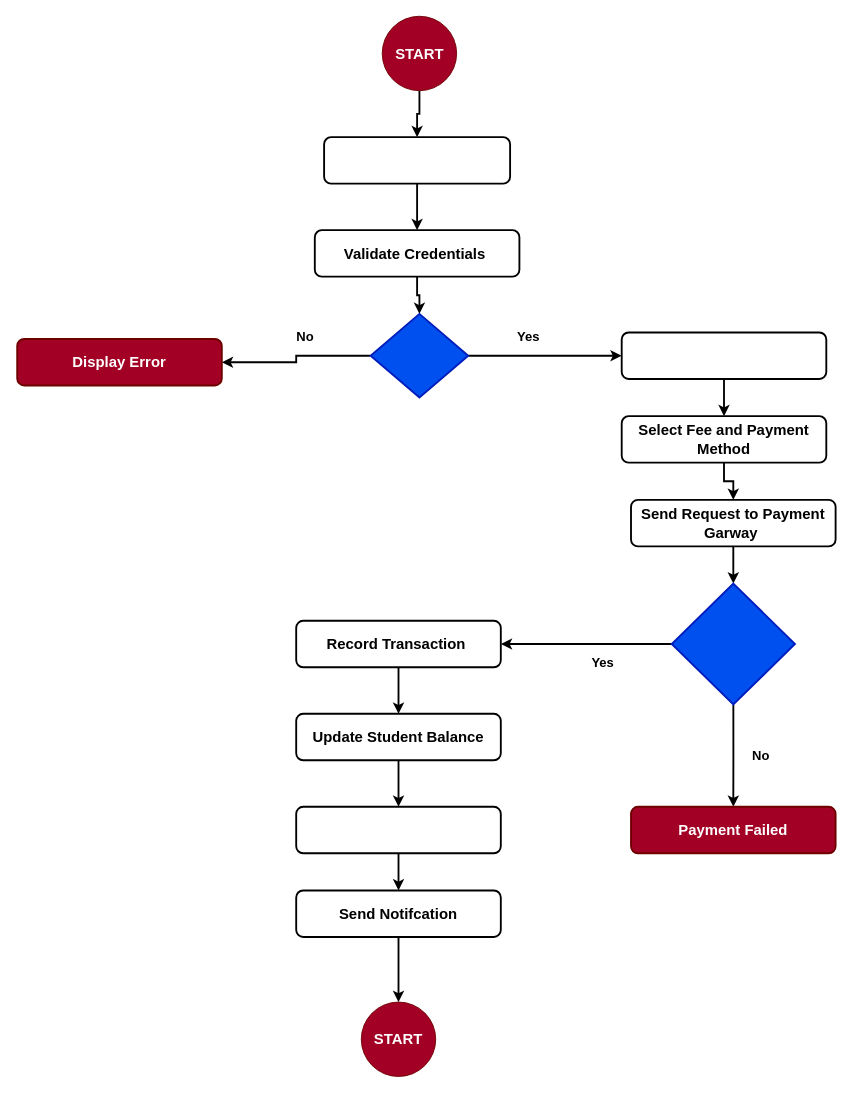
This 852x1093 diagram has some shape labels left out. Here are the shapes that lost their labels. From the top down, the centre of each, then its label:
(417,160): Login if a student
(419,355): Valid?
(723,355): Retrieve STudent and Fee Information
(732,643): Successful?
(398,829): Generate PDF Receipt
